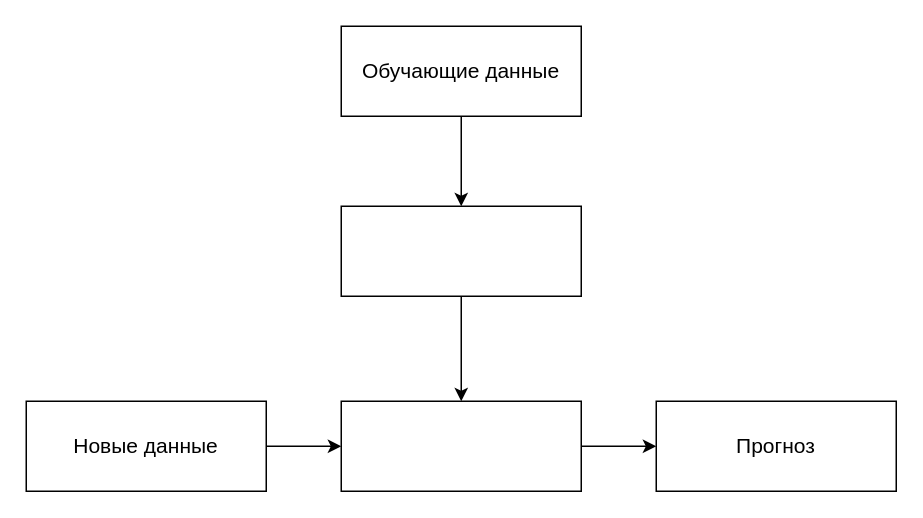
The diagram is 923 pixels wide and 518 high, and some of its shapes have lost their labels. Here are the shapes that lost their labels. From the top down, the centre of each, then its label:
At point (460, 250): "Алгоритм машинного обучения".
At point (460, 445): "Прогнозирующая модель".
